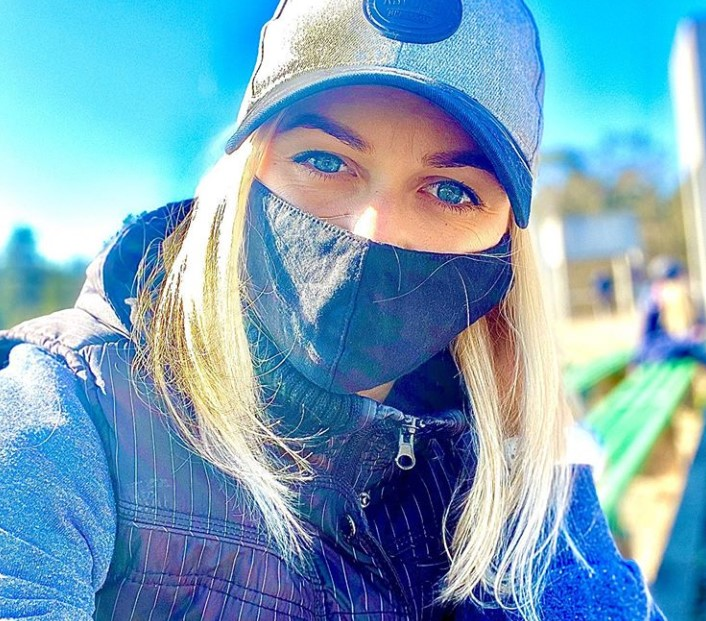face_with_mask: (225, 1, 548, 399)
